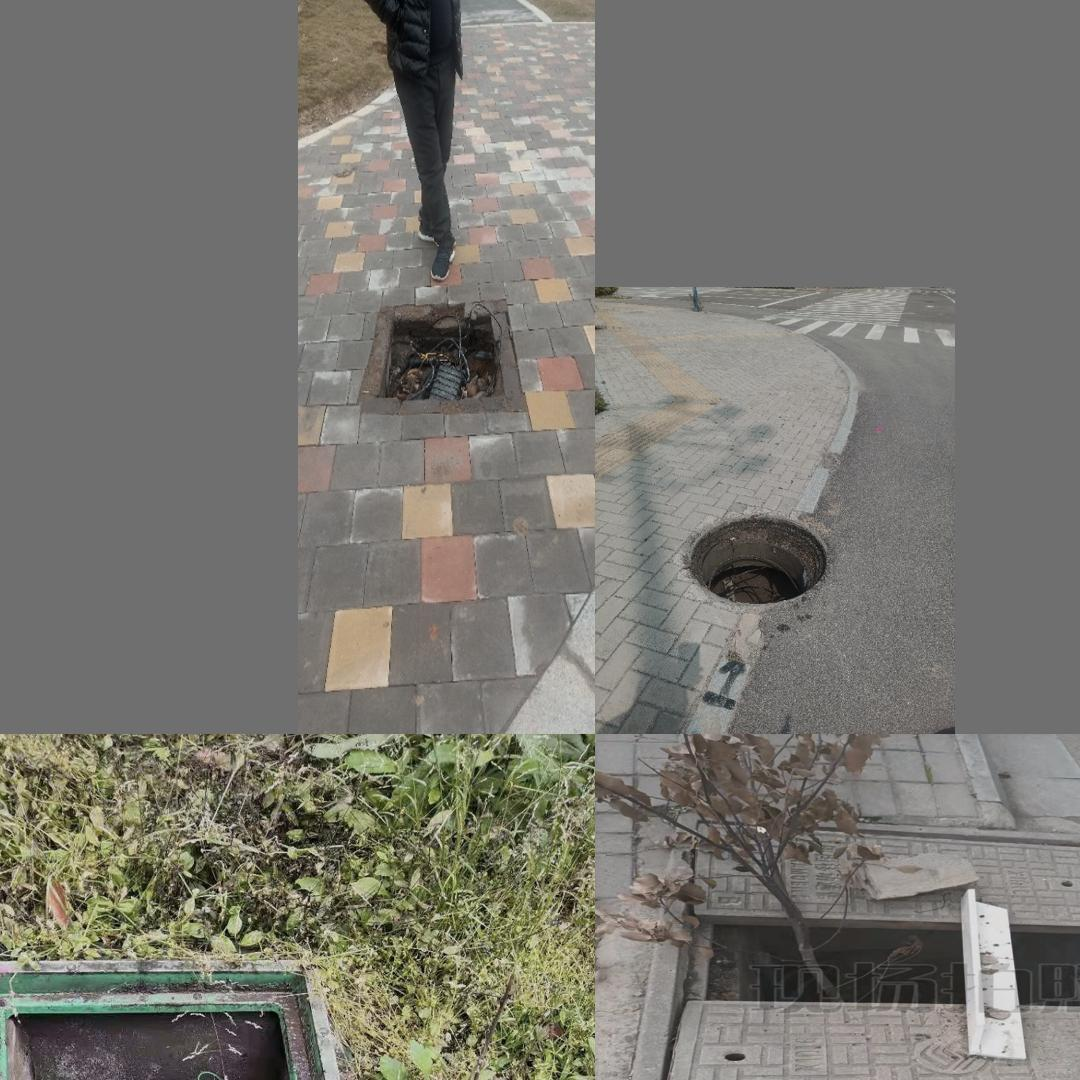lose: (612, 811, 1080, 1080), (0, 956, 407, 1080), (685, 513, 831, 605), (376, 313, 509, 400)
